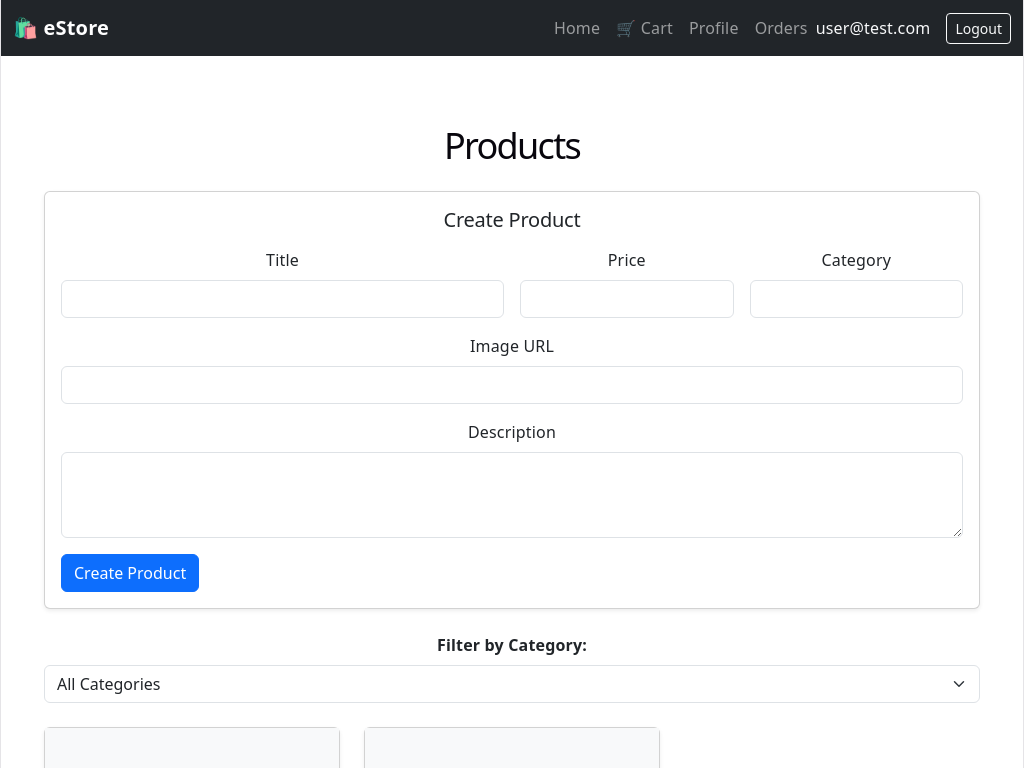
Test case: Cart integration: adding products from the Home page › Cart page shows empty message when navigated to before any item is added
Click the link "🛒 Cart".
click(645, 28)  # box x1=616 y1=17 x2=673 y2=39
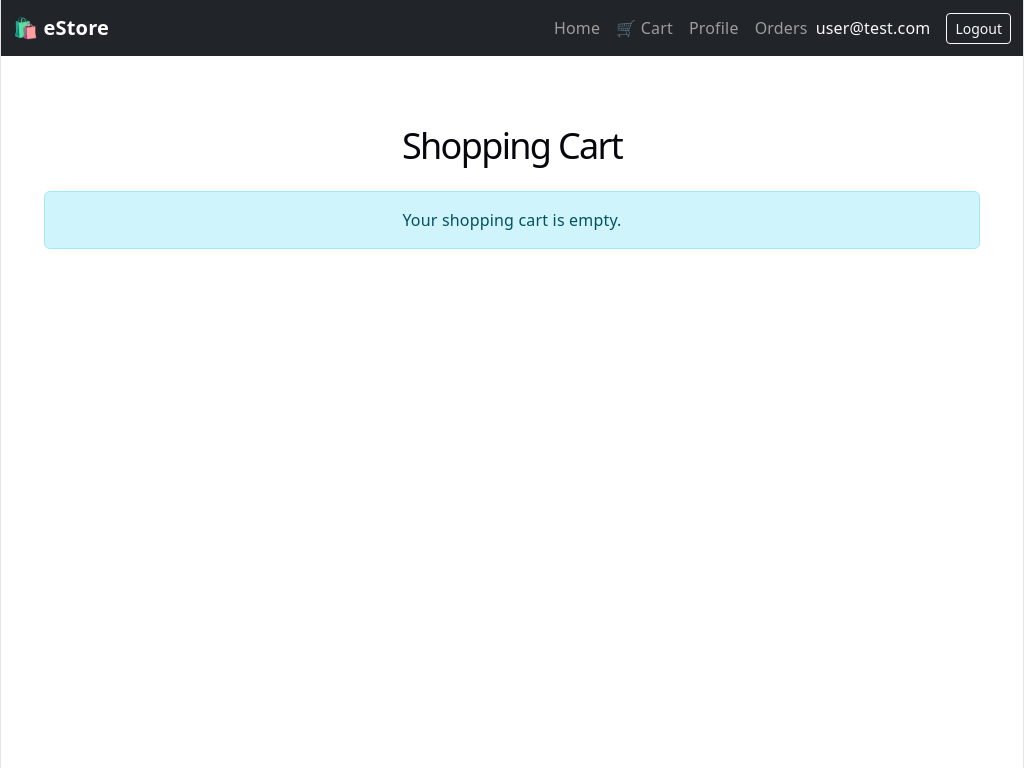
Expected: the text "Your shopping cart is empty." is shown, x1=44 y1=191 x2=980 y2=249
